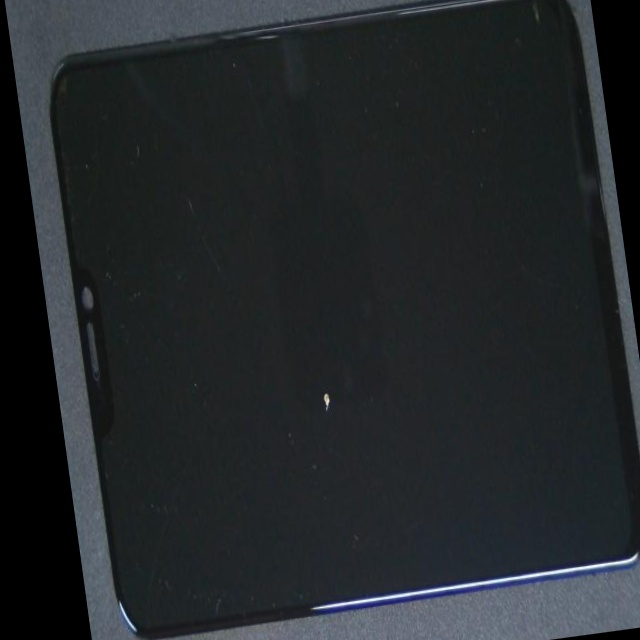stain: (175, 80, 475, 600)
